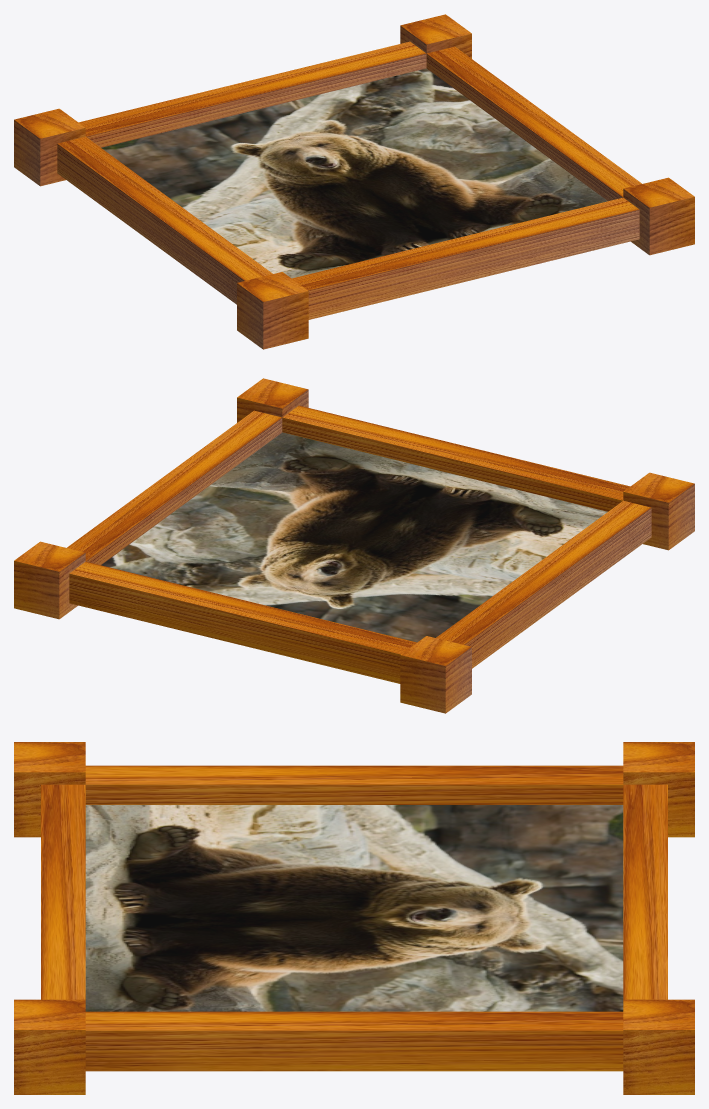
File: Oso.fbx
The picture shows the model from 3 angles, top to bottom: view 1: azimuth 30°, elevation 25°; view 2: azimuth 150°, elevation 25°; view 3: azimuth 270°, elevation 25°; orthographic projection. The views are drawn at different scales.
Visible parts, largest first — view 1: Oso; view 2: Oso; view 3: Oso.
Part boxes in pixels (x1,y1,x2,y2): Oso: (14,14,694,349); Oso: (14,378,694,713); Oso: (14,742,694,1094).
Bounding box in the file's own units: 76 × 8 × 76.
